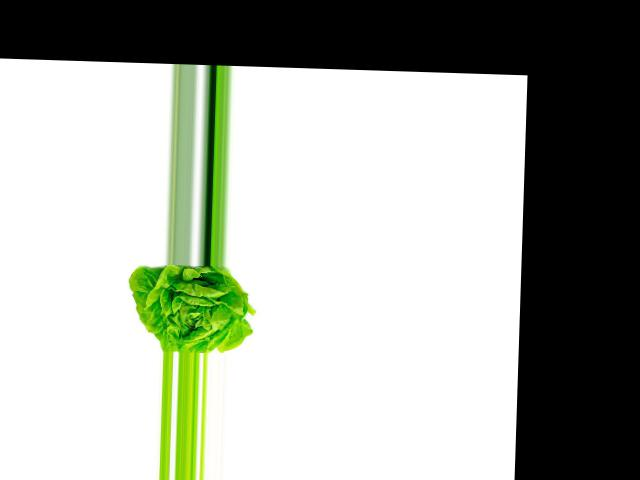lettuce: (124, 262, 251, 354)
